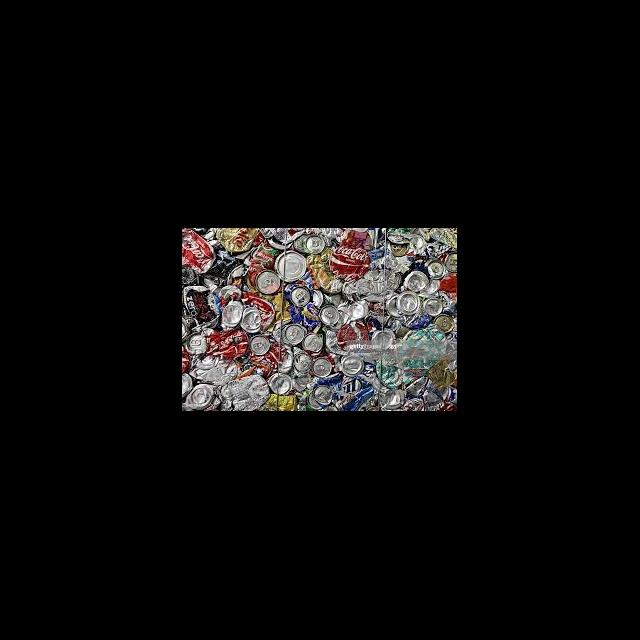metal: (182, 228, 222, 276), (328, 243, 369, 280), (182, 378, 222, 409), (274, 248, 310, 282), (182, 326, 212, 362), (264, 369, 298, 396), (398, 268, 433, 294), (252, 268, 282, 298), (284, 282, 314, 312), (393, 288, 422, 316), (238, 306, 264, 334), (218, 298, 242, 328), (278, 322, 304, 348), (420, 292, 446, 318), (430, 310, 456, 336), (290, 350, 316, 374), (246, 334, 272, 356)
